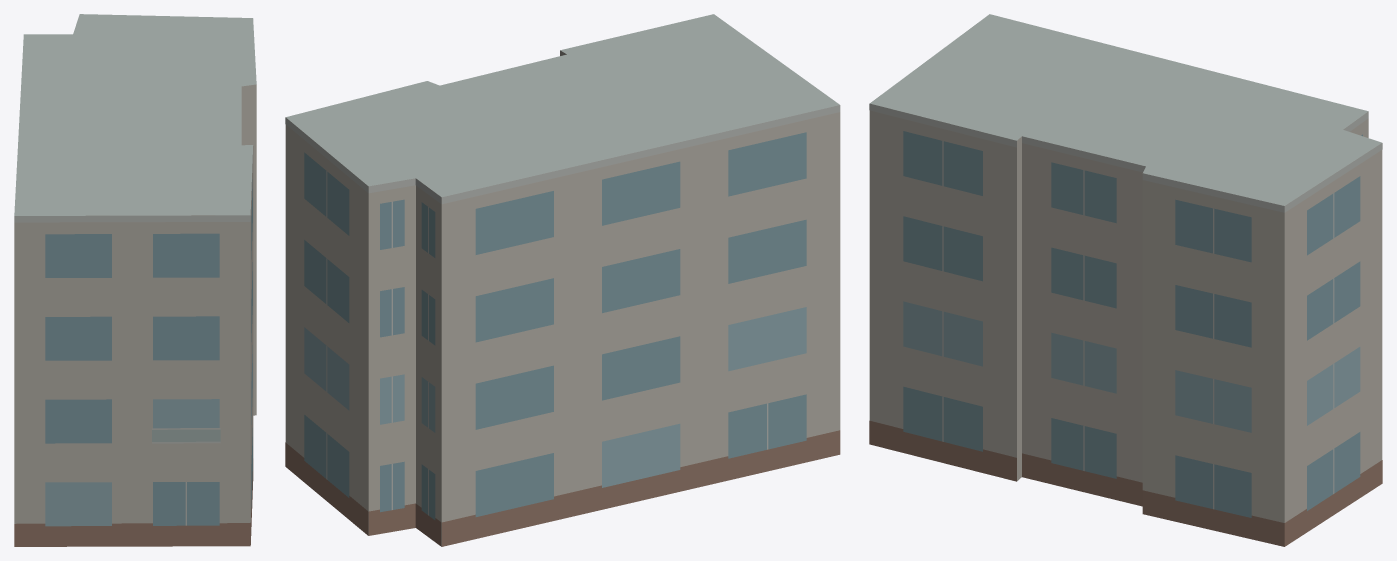
Rendered from survey-upis-32972295.glb.
3 renders of one model, left to right at view 1: azimuth 30°, elevation 25°; view 2: azimuth 150°, elevation 25°; view 3: azimuth 270°, elevation 25°, orthographic. The views are drawn at different scales.
Visible parts, largest first — view 1: survey-upis-32972295.tmp; view 2: survey-upis-32972295.tmp; view 3: survey-upis-32972295.tmp.
Part boxes in pixels (x1,y1,x2,y2): survey-upis-32972295.tmp: (14, 14, 256, 546); survey-upis-32972295.tmp: (285, 14, 840, 546); survey-upis-32972295.tmp: (869, 14, 1382, 546).
Bounding box in the file's own units: 14.75 × 12.2 × 16.65.
